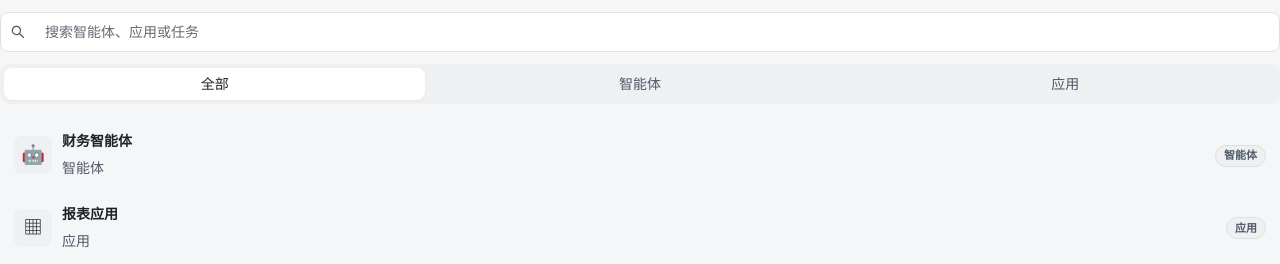
Test case: CapabilityPickerCore › prefetches both capability groups once and switches tabs locally without a loading flash
Click the tab "智能体" at [640, 84], box [429,68,851,100]
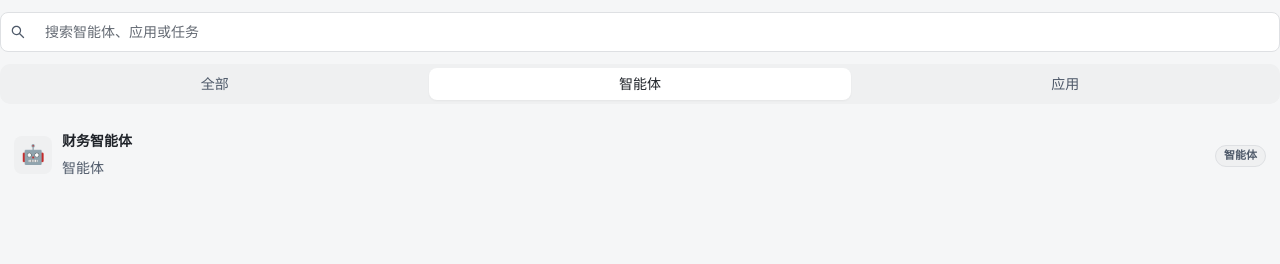
expect the text "财务智能体" is shown: met, box [62,132,132,149]
expect the text "报表应用" is gone: met
Click the tab "应用" at [1065, 84], box [855,68,1276,100]
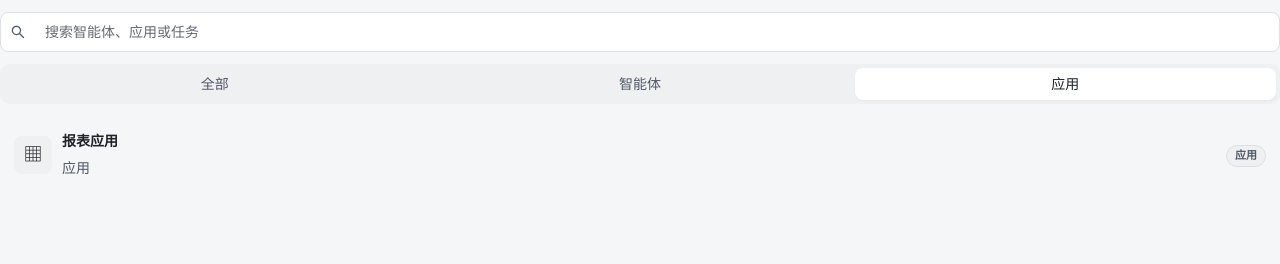
expect the text "报表应用" is shown: met, box [62,132,118,149]
expect the text "财务智能体" is gone: met
